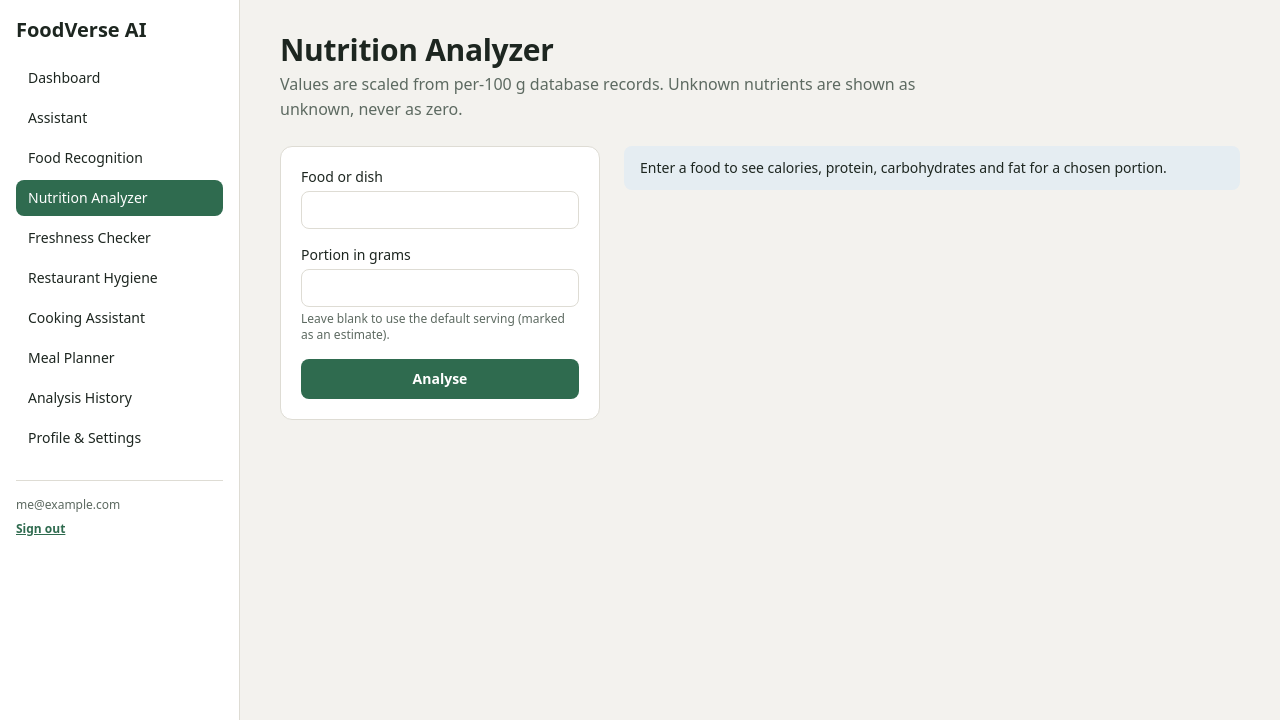
nutrition › says plainly when no record matches
Step 1. Type "zzq" into the field labelled "Food or dish" → (440, 210), box 301,191 -> 579,229
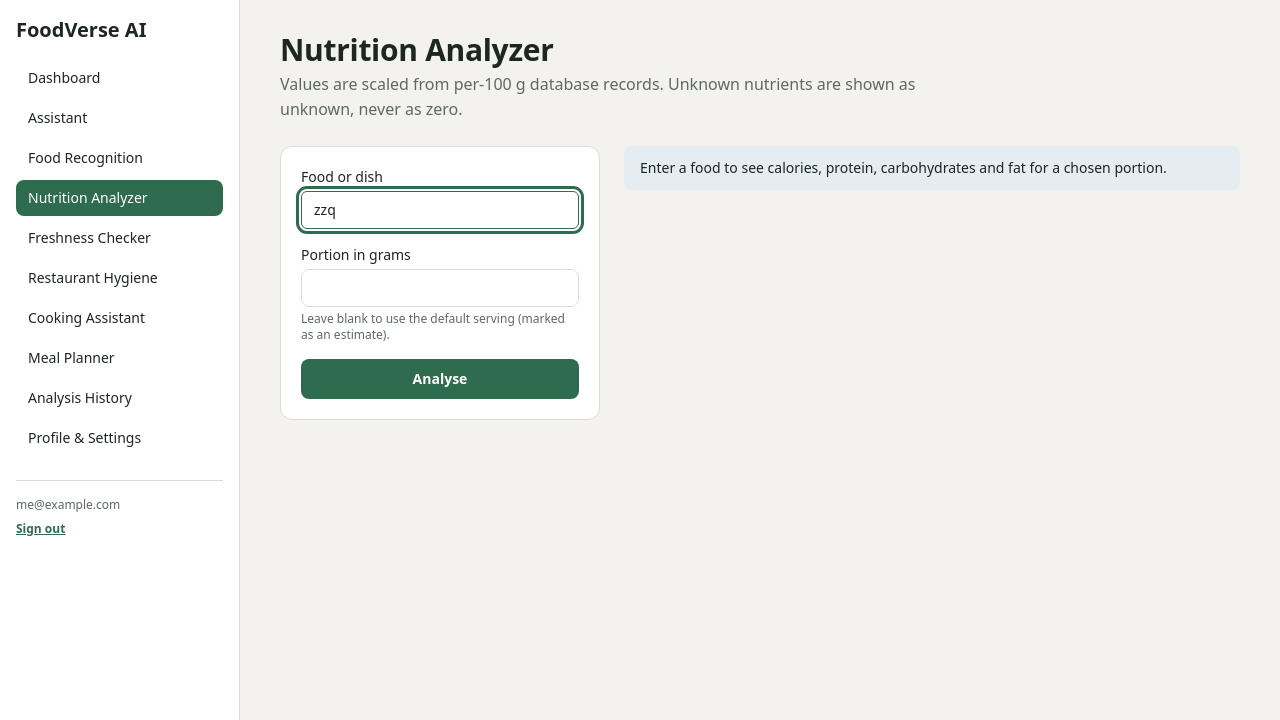
Step 2. Click the button "Analyse" → (440, 379), box 301,359 -> 579,399
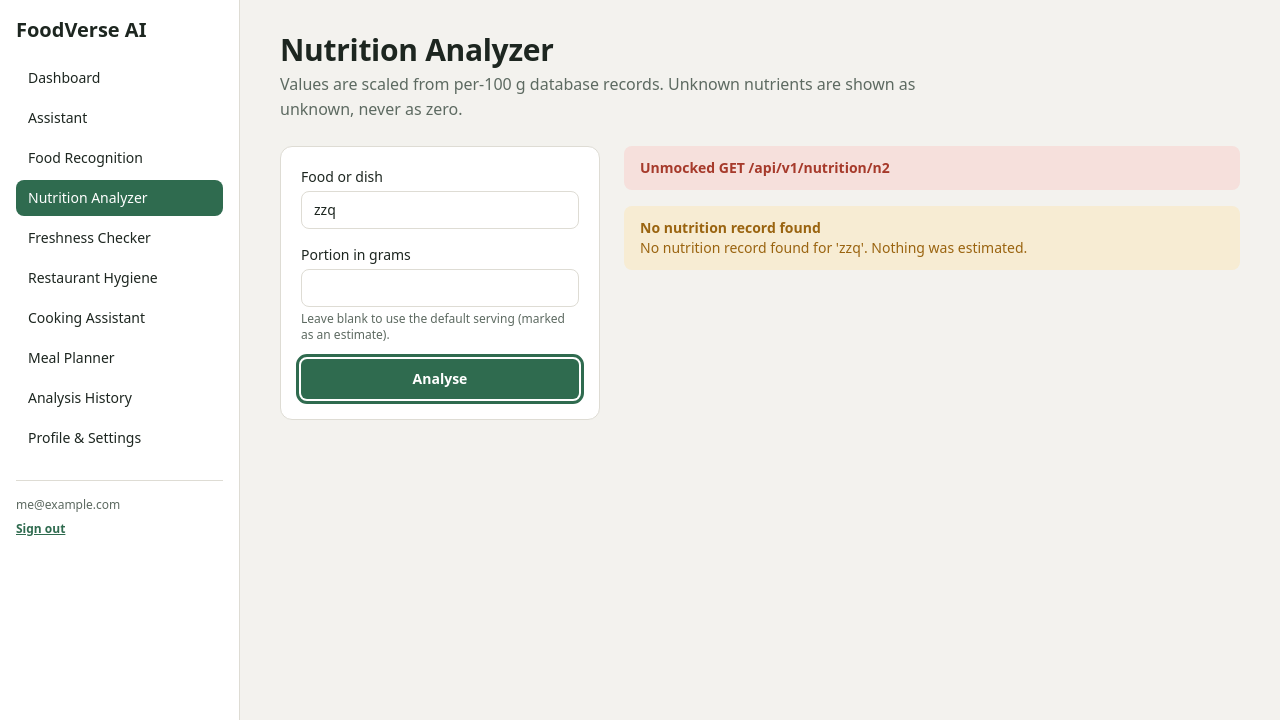
expect the text "No nutrition record found" is shown: met, box 640,218 -> 821,237
